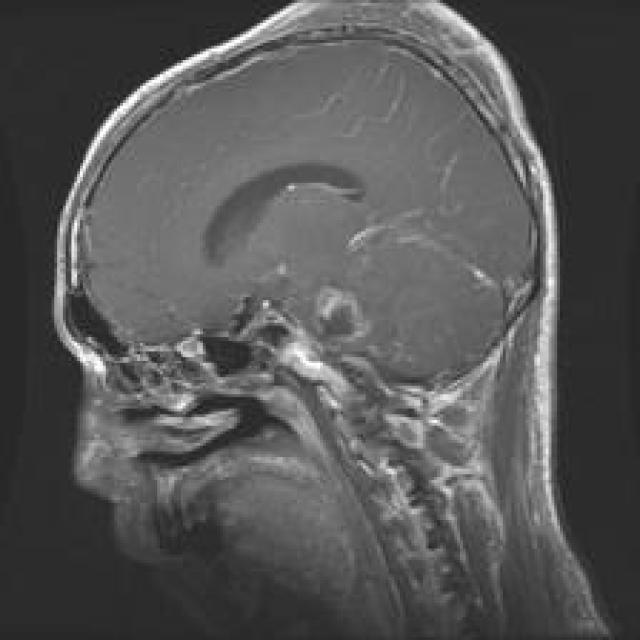glioma_tumor: (298, 278, 387, 354)
